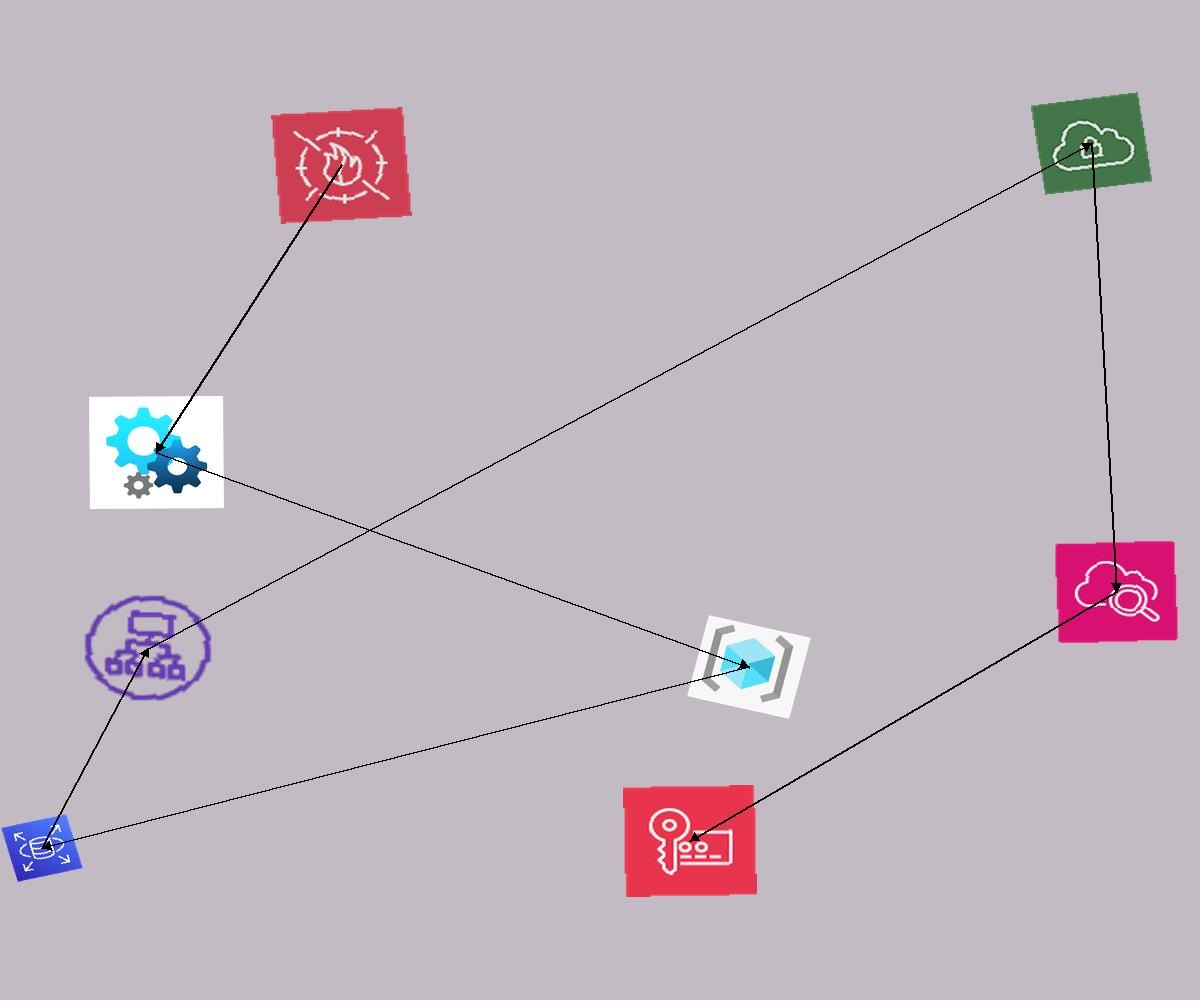AWS-CloudWatch: (1054, 540, 1179, 644)
AWS-Key-Management-Service: (623, 785, 757, 897)
AWS-Private_vpc: (1030, 92, 1153, 195)
AWS-RDS: (1, 814, 83, 882)
AWS-Res_Elastic-Load-Balancing_Application-Load-Balancer: (71, 584, 225, 712)
AWS-WAF: (271, 107, 412, 224)
Azure_api: (89, 396, 224, 509)
Azure_resource_group: (687, 615, 811, 719)
